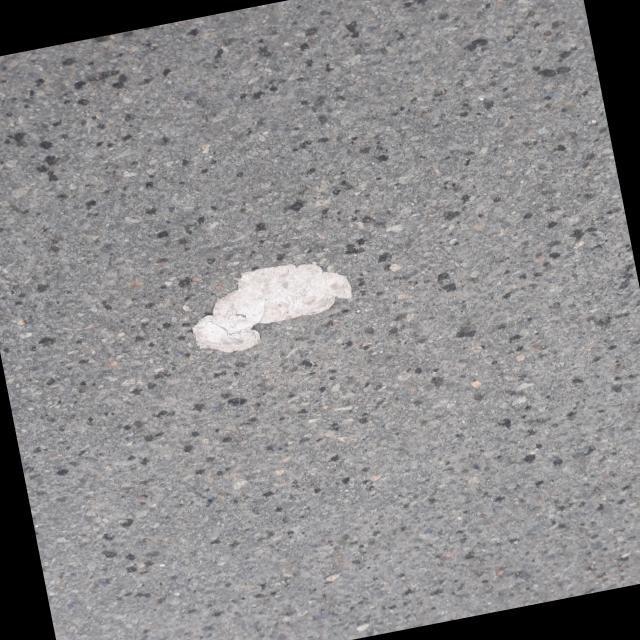less trash: (193, 264, 352, 353)
